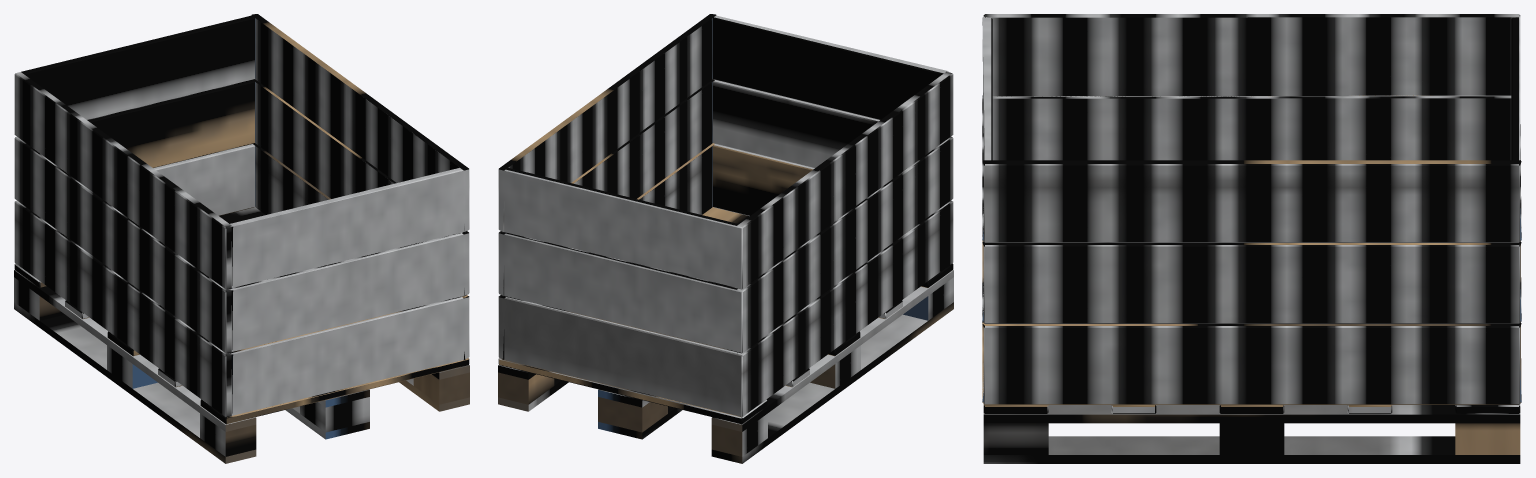
File: PalletCollar.fbx
3 views of the same model, side by side, from view 1: azimuth 30°, elevation 25°; view 2: azimuth 150°, elevation 25°; view 3: azimuth 270°, elevation 25° (orthographic). The views are drawn at different scales.
Visible parts, largest first — view 1: PalletCollar_LOD0; view 2: PalletCollar_LOD0; view 3: PalletCollar_LOD0.
Boxes of the visible parts, x1,y1,x2,y2 form: PalletCollar_LOD0: [14, 14, 469, 463]; PalletCollar_LOD0: [498, 14, 953, 463]; PalletCollar_LOD0: [982, 14, 1521, 463].
Size of what is drawn, in the model's own units: 0.8 by 0.739 by 1.21.
